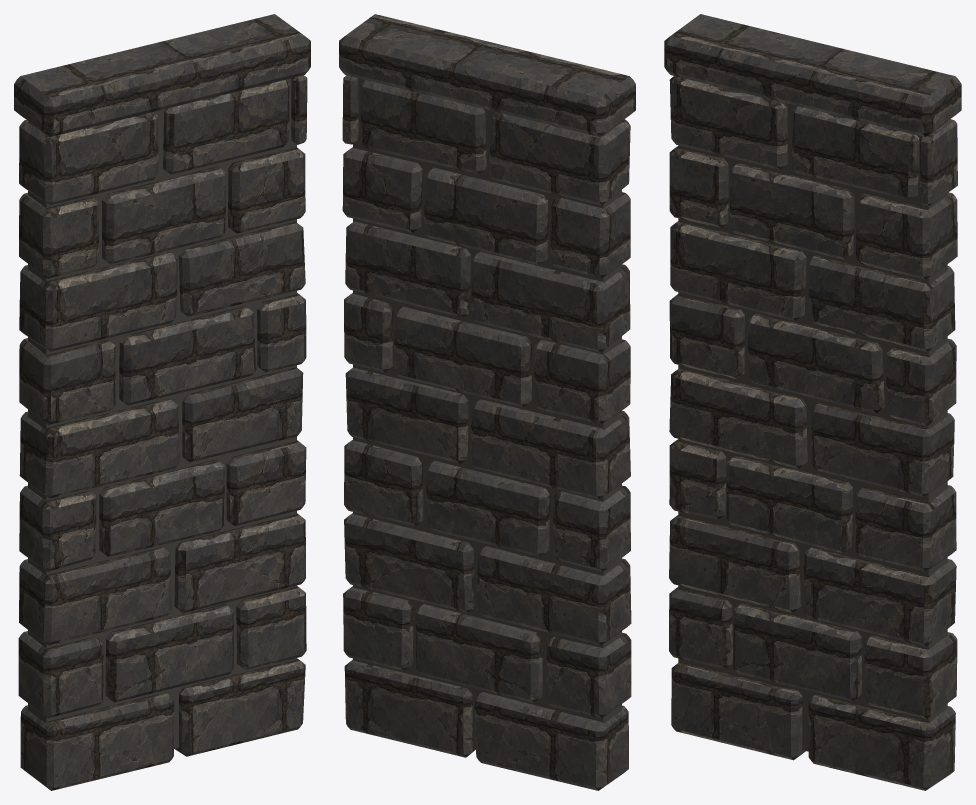
The model's file is wall_stone_c.glb.
The picture shows the model from 3 angles, left to right: view 1: azimuth 30°, elevation 25°; view 2: azimuth 150°, elevation 25°; view 3: azimuth 330°, elevation 25°; orthographic projection.
Visible parts, largest first — view 1: wall_stone_c; view 2: wall_stone_c; view 3: wall_stone_c.
Boxes of the visible parts, x1=… form: wall_stone_c: x1=14, y1=14, x2=310, y2=790; wall_stone_c: x1=339, y1=14, x2=635, y2=790; wall_stone_c: x1=664, y1=14, x2=961, y2=790.
Size of the model in its own units: 1 by 2.49 by 0.24.
4 materials, 3 textured.
